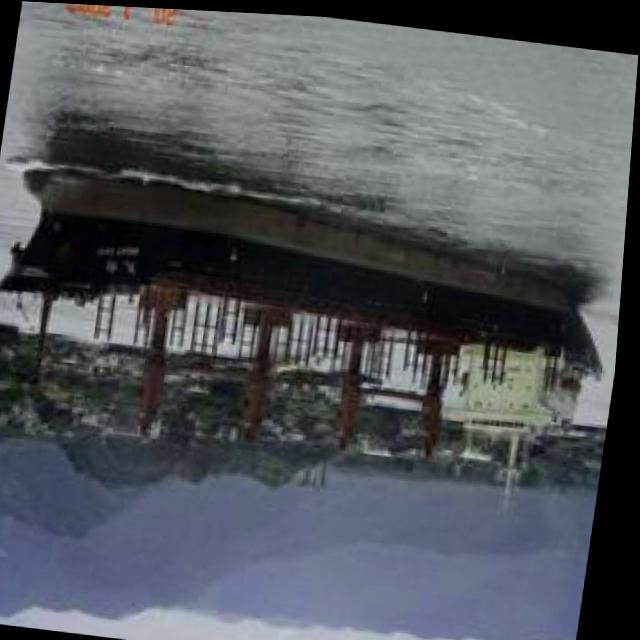ship2: (0, 154, 610, 504)
